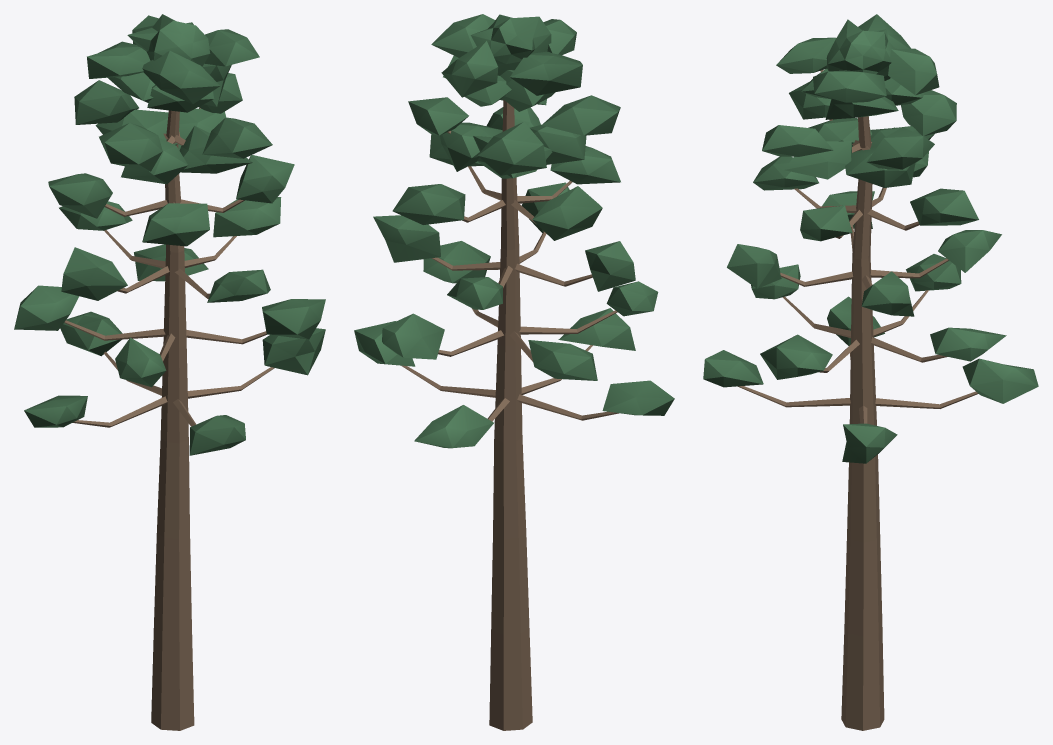
The model's file is veg-loblolly.glb.
3 views of the same model, side by side, from view 1: azimuth 30°, elevation 25°; view 2: azimuth 150°, elevation 25°; view 3: azimuth 270°, elevation 25° (orthographic).
Parts seen in each view (by area): view 1: LOD0; view 2: LOD0; view 3: LOD0.
Boxes of the visible parts, x1,y1,x2,y2 form: LOD0: (14,14,325,730); LOD0: (354,14,674,730); LOD0: (703,14,1038,730).
Size of what is drawn, in the model's own units: 5.77 by 12.46 by 5.48.
